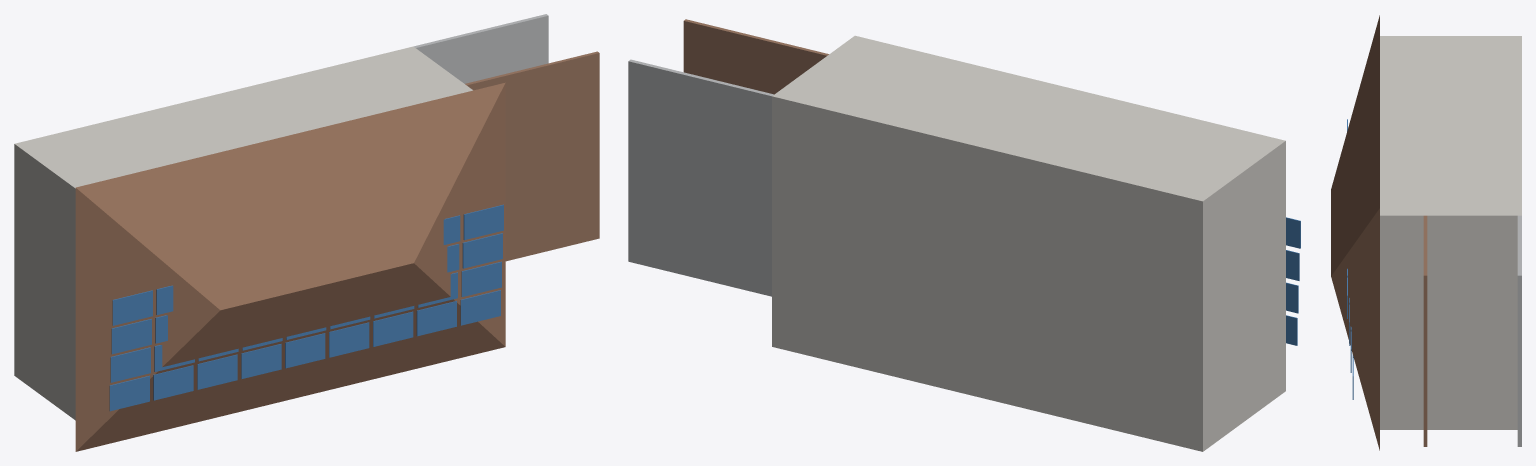
The model's file is generated_407289a383.glb.
The picture shows the model from 3 angles, left to right: view 1: azimuth 30°, elevation 25°; view 2: azimuth 150°, elevation 25°; view 3: azimuth 270°, elevation 25°; orthographic projection. The views are drawn at different scales.
Parts seen in each view (by area): view 1: hip_roof, house_body, front_porch_roof, front_porch_slab, solar_panel_9, solar_panel_17, solar_panel_27, solar_panel, solar_panel_8, solar_panel_26, solar_panel_35, solar_panel_18 (+7 smaller); view 2: house_body, front_porch_slab, front_porch_roof; view 3: house_body, hip_roof, front_porch_slab, front_porch_roof.
Part boxes in pixels (x1=…): hip_roof: x1=75, y1=82, x2=505, y2=451; house_body: x1=14, y1=46, x2=472, y2=420; front_porch_roof: x1=465, y1=51, x2=599, y2=261; front_porch_slab: x1=413, y1=14, x2=548, y2=83; solar_panel_9: x1=110, y1=347, x2=150, y2=382; solar_panel_17: x1=461, y1=261, x2=501, y2=296; solar_panel_27: x1=112, y1=290, x2=152, y2=325; solar_panel: x1=109, y1=375, x2=149, y2=411; solar_panel_8: x1=460, y1=290, x2=500, y2=325; solar_panel_26: x1=462, y1=233, x2=502, y2=268; solar_panel_35: x1=463, y1=204, x2=503, y2=240; solar_panel_18: x1=111, y1=319, x2=151, y2=354; house_body: x1=772, y1=35, x2=1285, y2=451; front_porch_slab: x1=628, y1=59, x2=773, y2=296; front_porch_roof: x1=683, y1=19, x2=828, y2=94; house_body: x1=1380, y1=36, x2=1521, y2=429; hip_roof: x1=1331, y1=15, x2=1379, y2=450; front_porch_slab: x1=1517, y1=215, x2=1521, y2=446; front_porch_roof: x1=1423, y1=215, x2=1427, y2=446.
Size of the model in its own units: 24.7 by 11.4 by 8.07.
